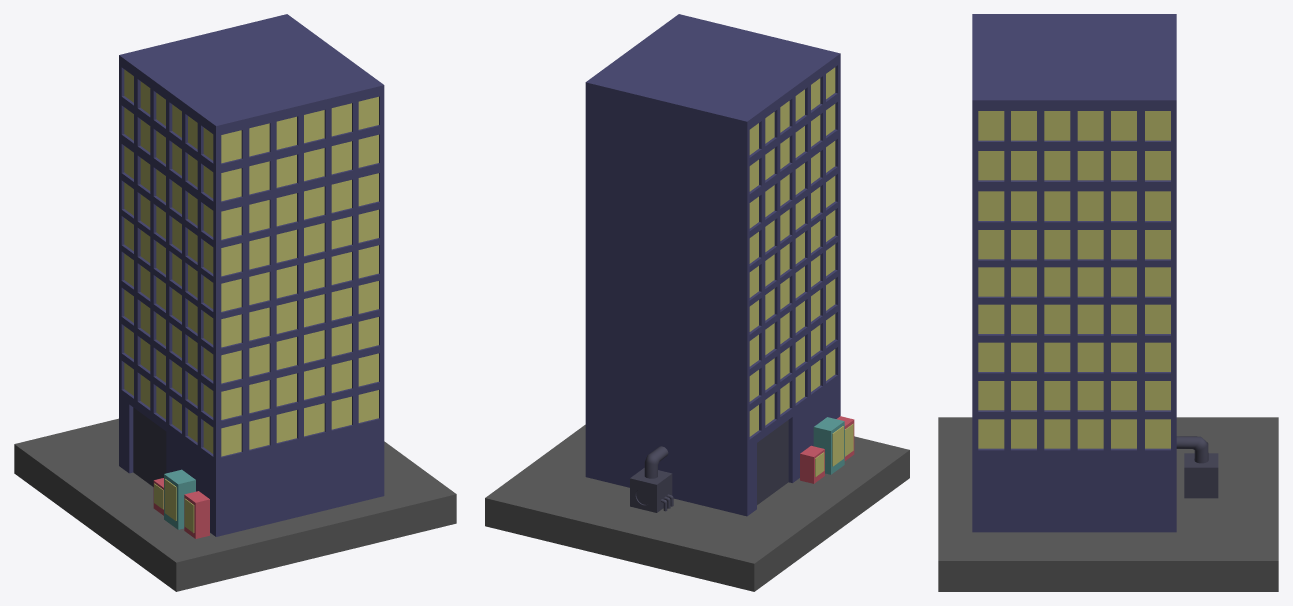
File: House_5.fbx
3 views of the same model, side by side, from view 1: azimuth 30°, elevation 25°; view 2: azimuth 150°, elevation 25°; view 3: azimuth 270°, elevation 25° (orthographic). The views are drawn at different scales.
Visible parts, largest first — view 1: House_9, Block_Tile_2, Vending_machines_2; view 2: House_9, Block_Tile_2, Vending_machines_2, Airfilter2; view 3: House_9, Block_Tile_2, Airfilter2.
Part boxes in pixels (x1,y1,x2,y2): House_9: (119,14,384,536); Block_Tile_2: (14,418,456,591); Vending_machines_2: (153,469,209,538); House_9: (585,14,840,516); Block_Tile_2: (485,424,909,591); Vending_machines_2: (800,416,854,483); Airfilter2: (630,446,673,512); House_9: (972,14,1176,532); Block_Tile_2: (938,417,1278,591); Airfilter2: (1176,436,1218,498).
Bounding box in the file's own units: 10 × 15 × 10.
